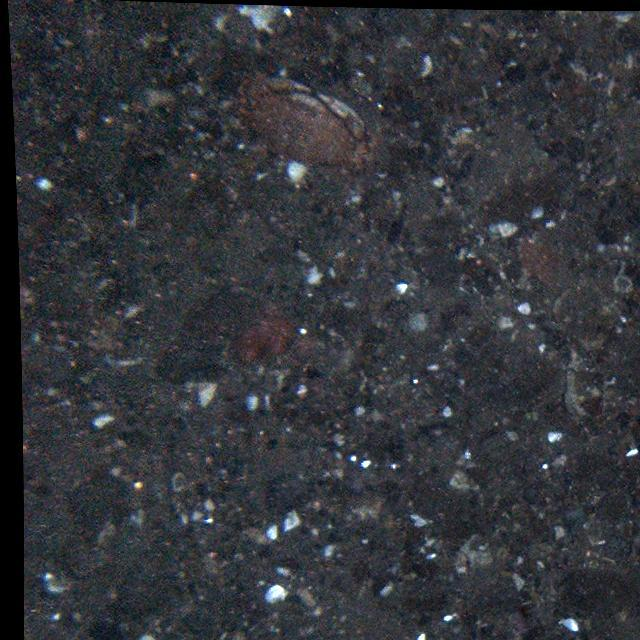crab: (232, 67, 374, 174)
